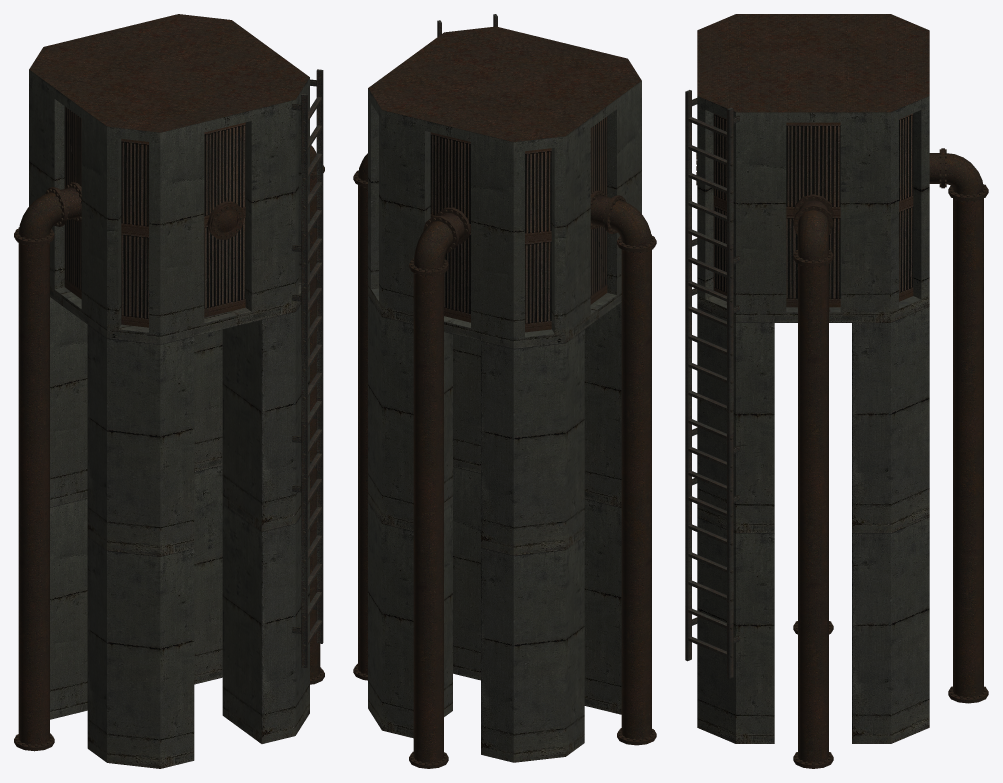
File: boiler_hx_4.glb
3 views of the same model, side by side, from view 1: azimuth 30°, elevation 25°; view 2: azimuth 150°, elevation 25°; view 3: azimuth 270°, elevation 25° (orthographic). The views are drawn at different scales.
Parts seen in each view (by area): view 1: boiler_hx_4; view 2: boiler_hx_4; view 3: boiler_hx_4.
Boxes of the visible parts, x1=… form: boiler_hx_4: x1=14, y1=14, x2=324, y2=768; boiler_hx_4: x1=353, y1=14, x2=656, y2=768; boiler_hx_4: x1=685, y1=14, x2=988, y2=768.
Size of the model in its own units: 4.52 by 9.1 by 3.91.
5 materials, 5 textured.
